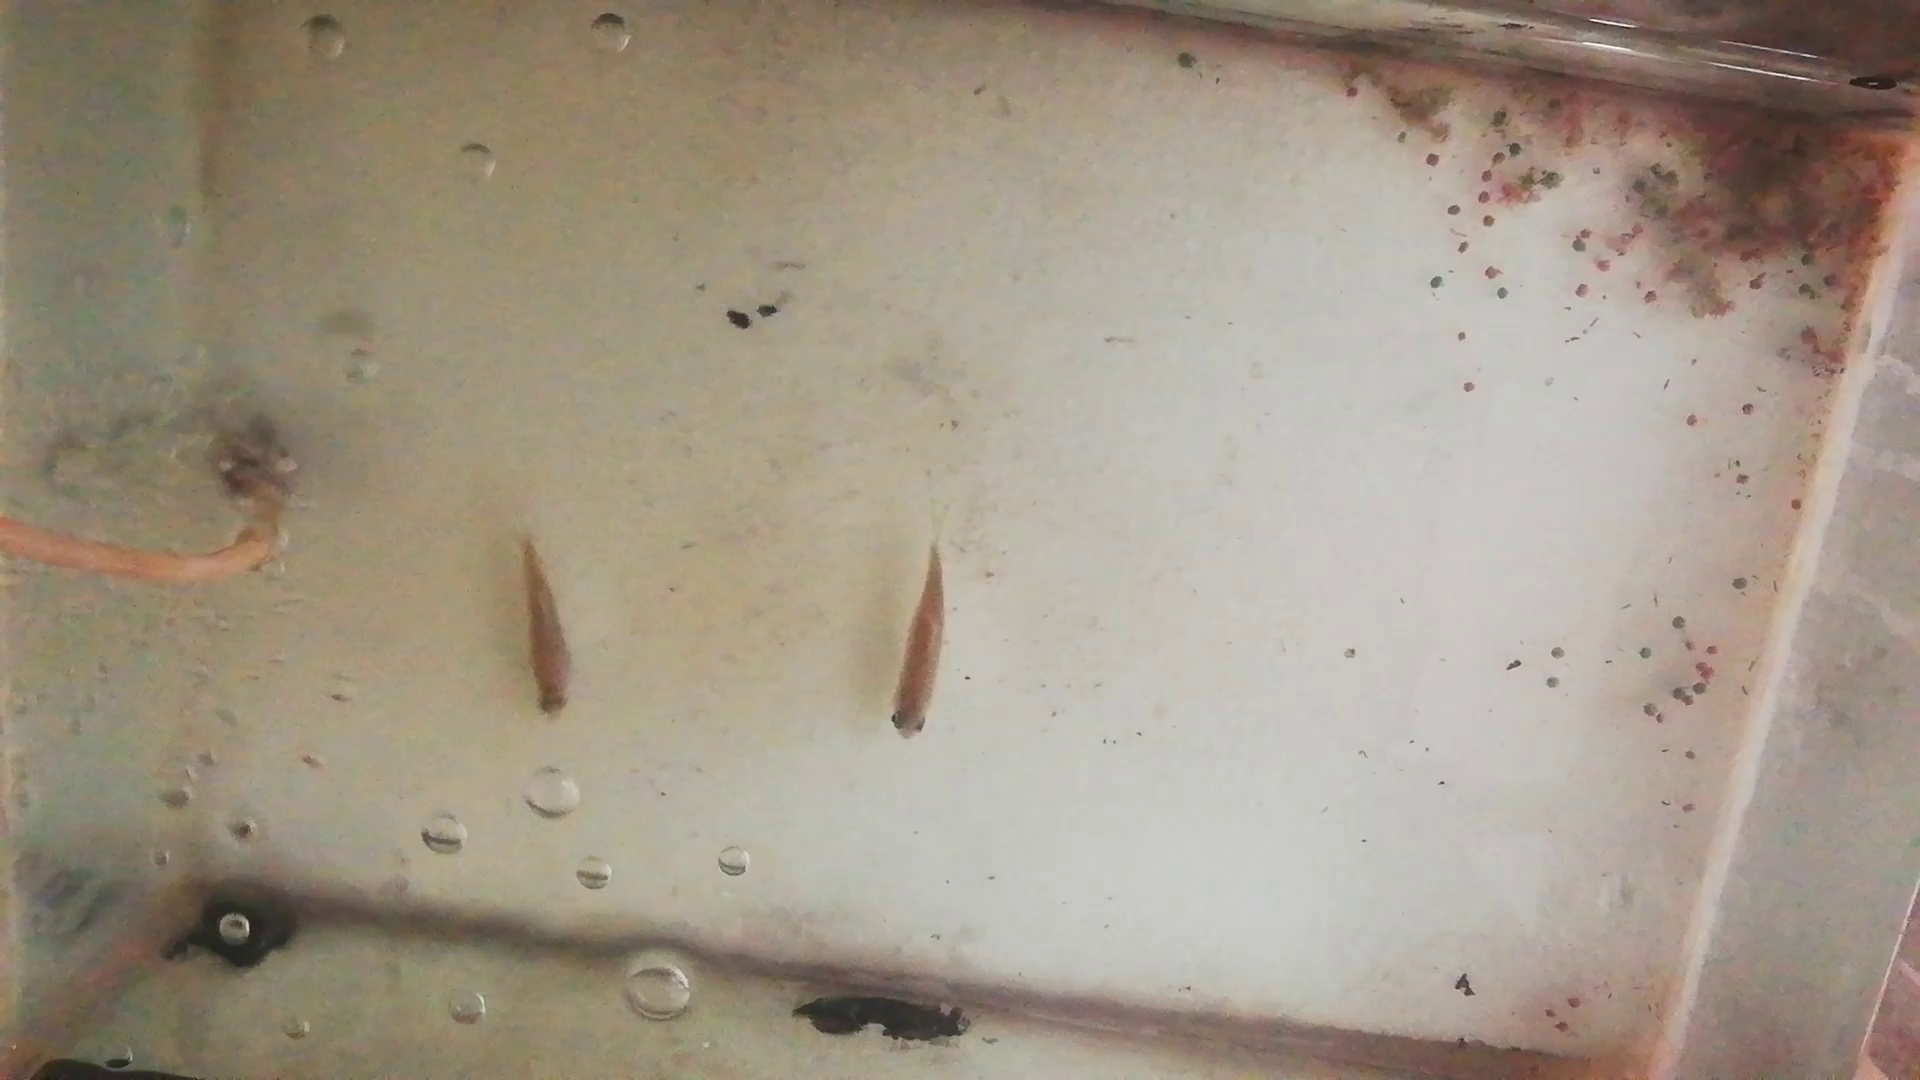fish: (887, 547, 949, 738), (518, 541, 578, 724)
